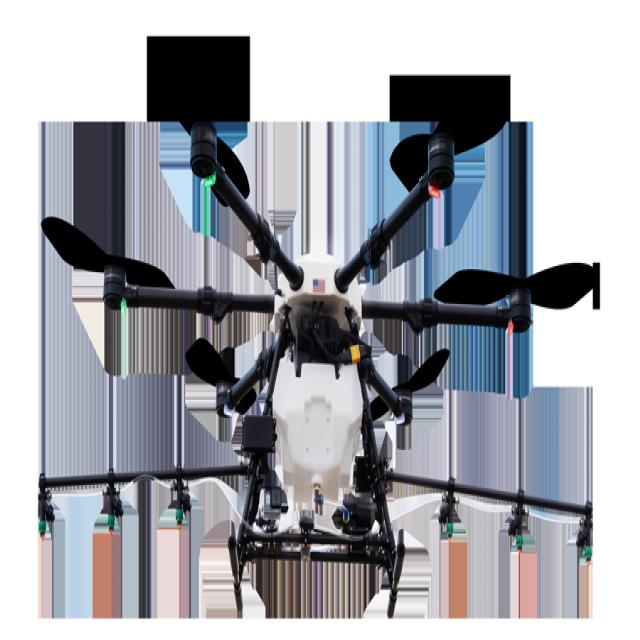drone: (31, 32, 640, 640)
